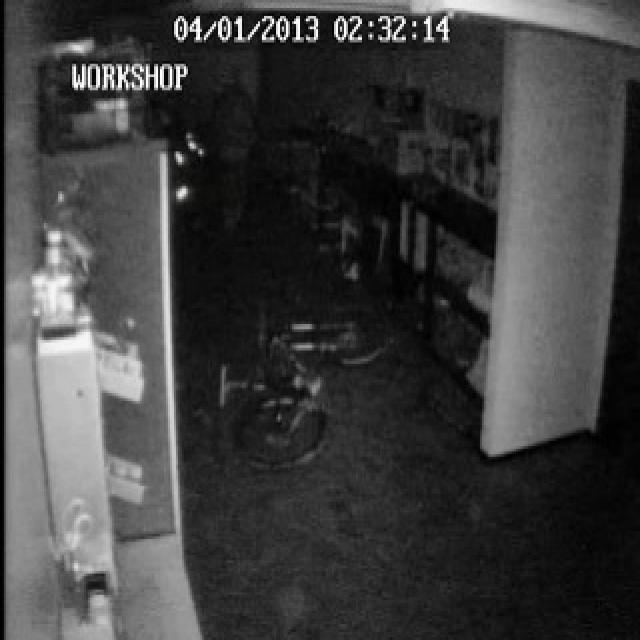burglary: (215, 303, 392, 473)
